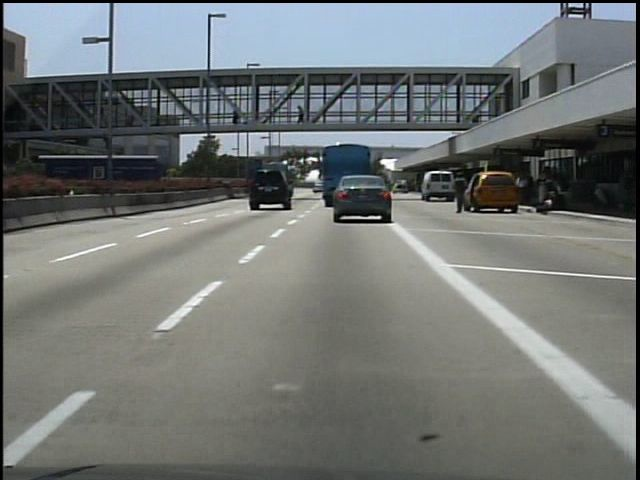person: (452, 171, 473, 219), (295, 103, 309, 129), (229, 102, 244, 126)
